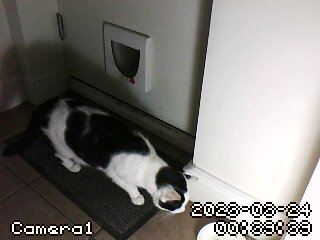bad: (20, 93, 197, 227)
